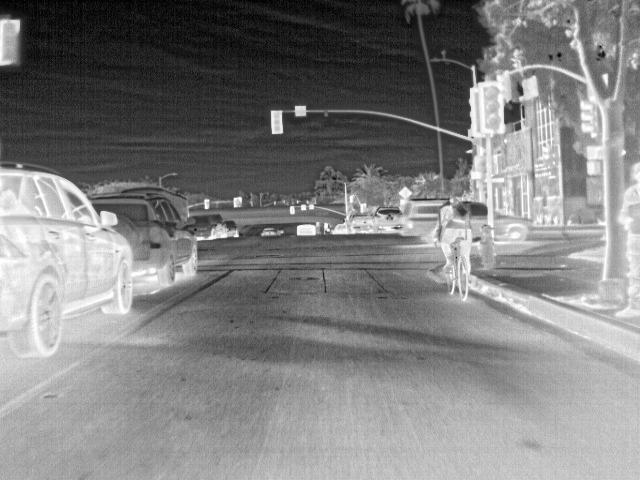car: (1, 162, 132, 359), (90, 193, 199, 287), (396, 195, 437, 247), (494, 210, 533, 242), (190, 213, 226, 241), (374, 206, 398, 231), (224, 220, 241, 239), (257, 226, 283, 238)
person: (614, 161, 639, 320), (440, 195, 471, 276)
